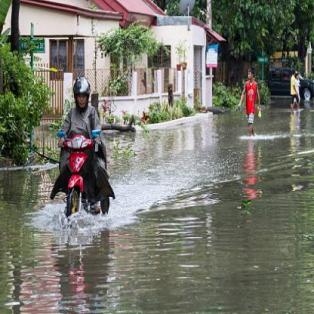Motocicleta: (55, 128, 104, 228)
